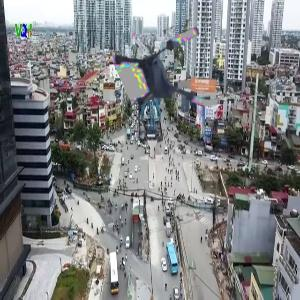drone: (126, 31, 222, 127)
